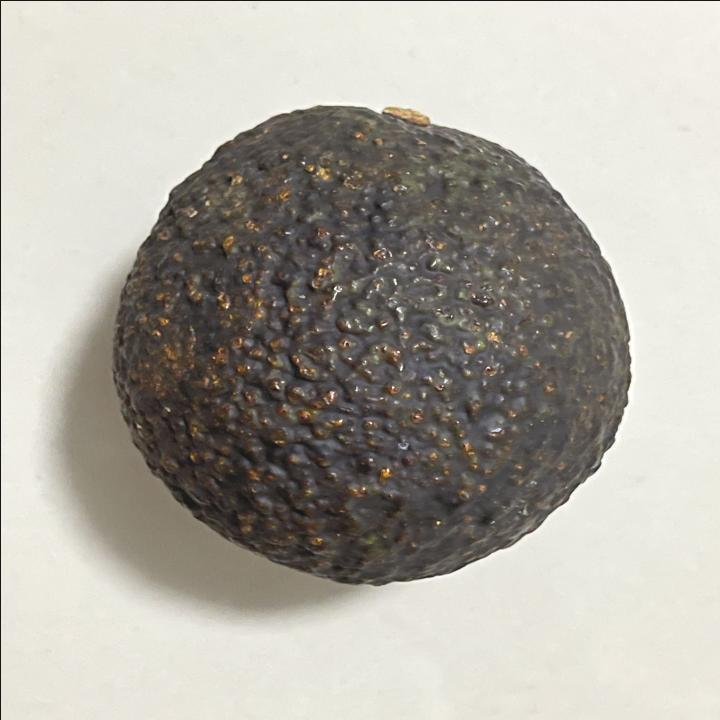Level1: (91, 82, 660, 600)
